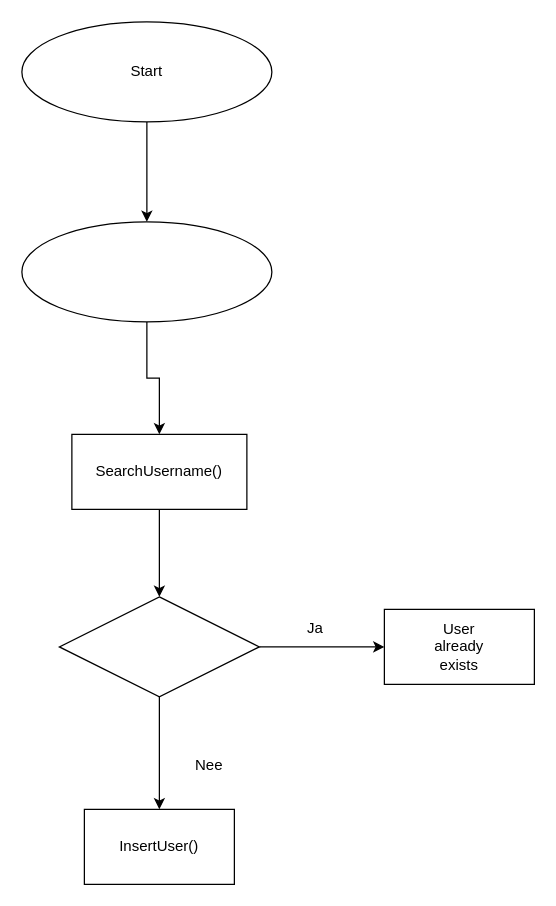
This 556x906 diagram has some shape labels left out. Each missing label, with the centre of its shape:
"Connect Database" goes at point 146,271.
"Gevonden?" goes at point 158,646.
